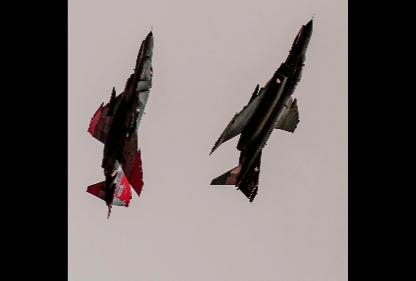F35: (210, 13, 315, 203), (87, 24, 154, 218)
